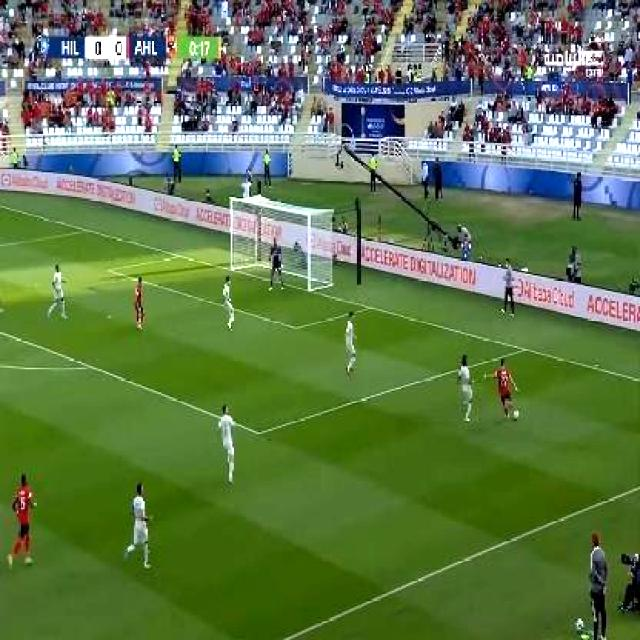bigarea_bottom_inner: (246, 419, 269, 446)
bigarea_bottom_outter: (514, 337, 532, 358)
bigarea_top_outter: (77, 221, 91, 237)
bottom_arc_area_intersection: (78, 354, 100, 377)
smallarea_bottom_inner: (286, 315, 303, 337)
smallarea_bottom_outter: (358, 297, 377, 317)
smallarea_top_inner: (100, 262, 118, 278)
smallarea_top_outter: (169, 246, 186, 263)
